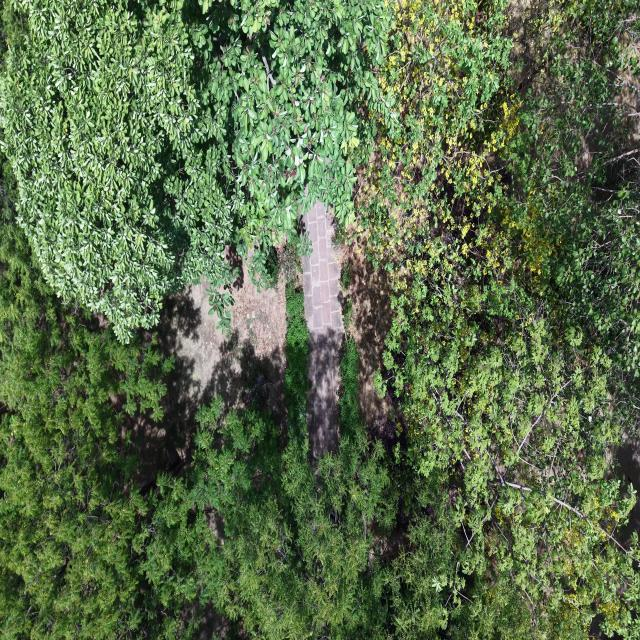DRY_AREA: (125, 257, 286, 493), (126, 257, 286, 486), (128, 261, 286, 490), (128, 257, 286, 485), (126, 267, 286, 491), (135, 265, 286, 486), (303, 203, 396, 460), (177, 265, 286, 418), (177, 264, 286, 412), (343, 242, 396, 445), (302, 203, 343, 333), (307, 329, 342, 464), (616, 438, 639, 487)
PATHWAYS: (303, 203, 343, 461)
VEGETATION_TREE: (0, 0, 639, 639), (0, 227, 458, 638), (359, 2, 639, 637), (145, 288, 531, 639), (0, 0, 392, 340), (145, 290, 396, 639), (0, 223, 171, 638), (0, 151, 16, 219)
